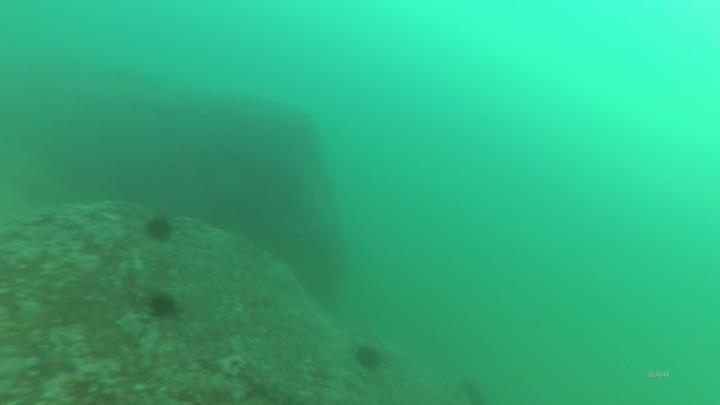echinus: (145, 289, 181, 321), (351, 341, 385, 373), (142, 214, 176, 245), (458, 377, 487, 405)
starfish: (28, 343, 79, 381)
